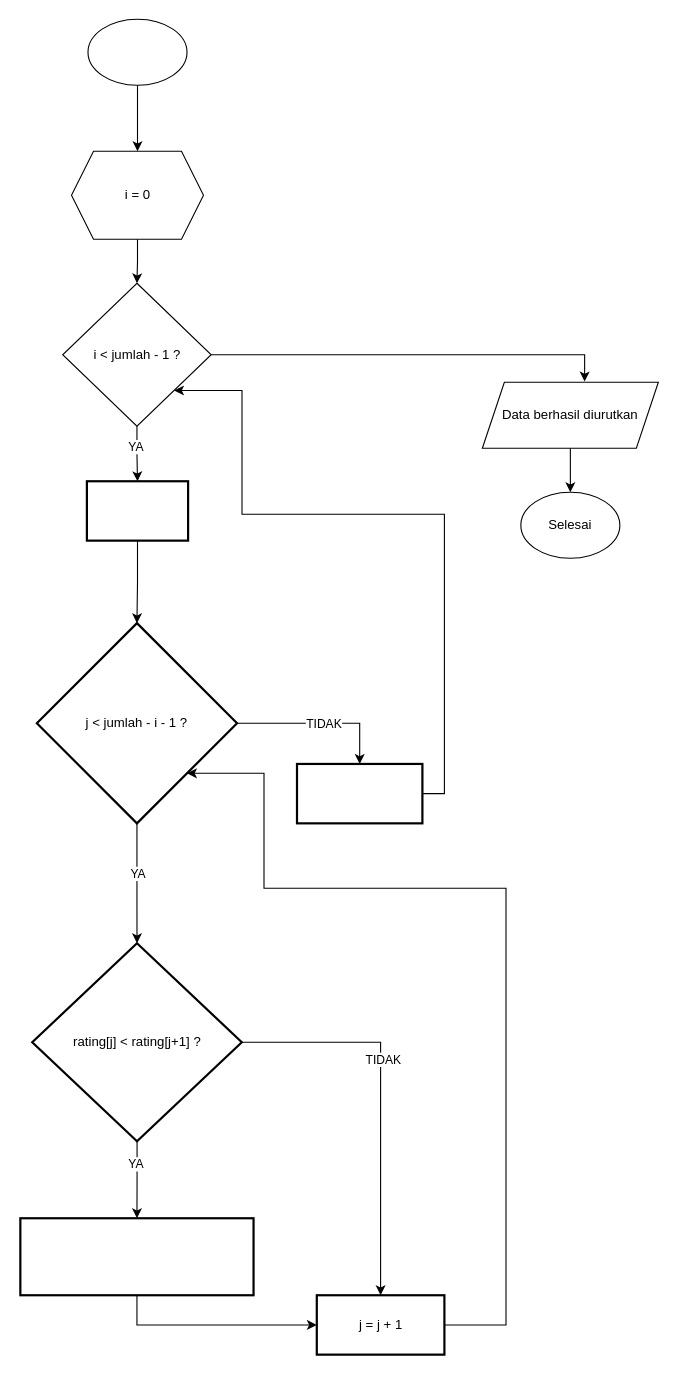
This 678x1375 diagram has some shape labels left out. Here are the shapes that lost their labels. From the top down, the centre of each, then its label:
pixel 137 51: Mulai
pixel 137 510: j = 0
pixel 359 793: i = i + 1
pixel 136 1256: Swap rating[j], nama[j], genre[j] dengan indeks j+1
